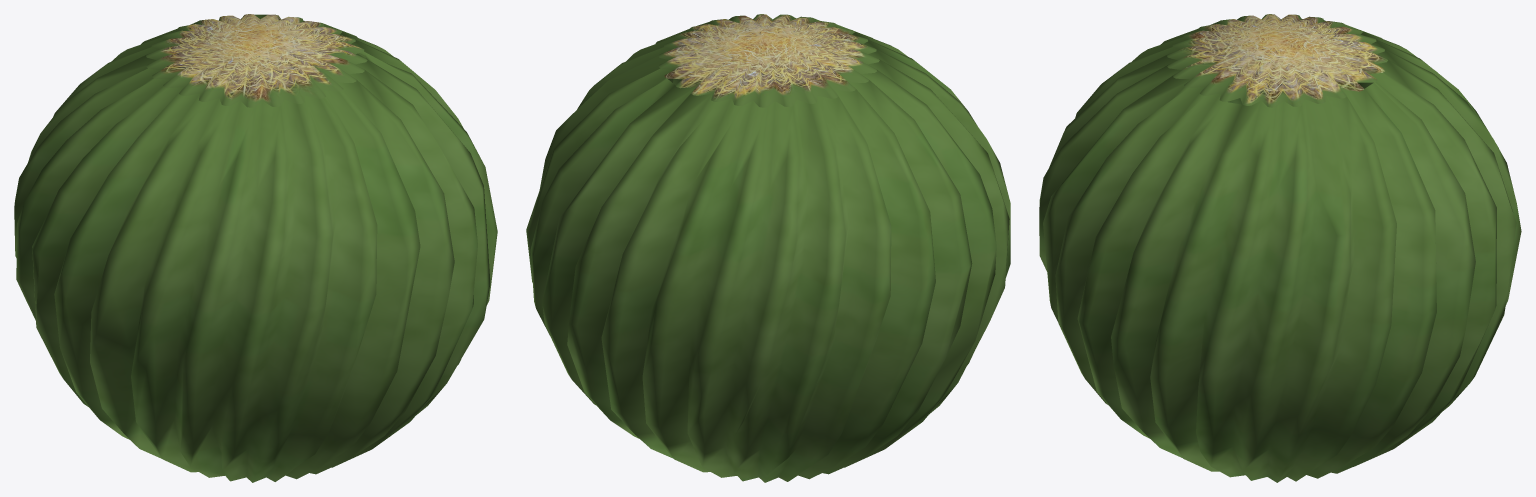
Rendered from cactus_barrel_1.glb.
The picture shows the model from 3 angles, left to right: view 1: azimuth 30°, elevation 25°; view 2: azimuth 150°, elevation 25°; view 3: azimuth 270°, elevation 25°; orthographic projection.
Visible parts, largest first — view 1: prop; view 2: prop; view 3: prop.
Part boxes in pixels (<box>): prop: <box>14,14,497,482</box>; prop: <box>526,14,1010,482</box>; prop: <box>1039,14,1521,482</box>.
Size of the model in its own units: 0.8812 by 0.8 by 0.8728.
Materials: 2 (2 with a texture image).
